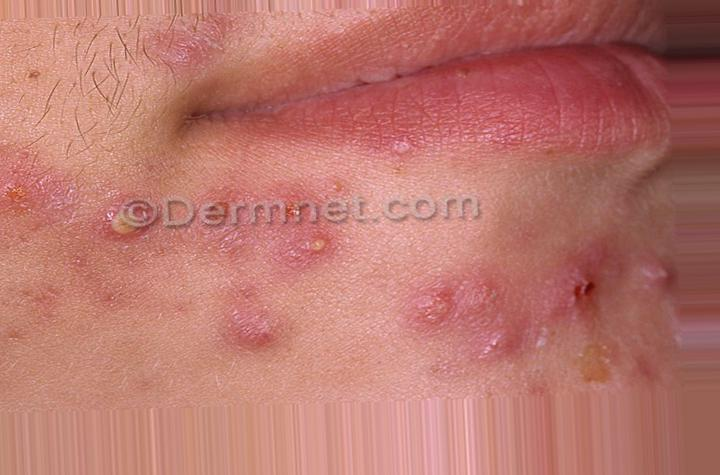Acne: (458, 275, 522, 347), (218, 283, 280, 355), (98, 190, 173, 241), (635, 228, 689, 296), (0, 160, 45, 234), (556, 259, 613, 316), (200, 192, 248, 257), (616, 325, 670, 378), (143, 26, 222, 59), (283, 210, 332, 260), (418, 273, 452, 335)
